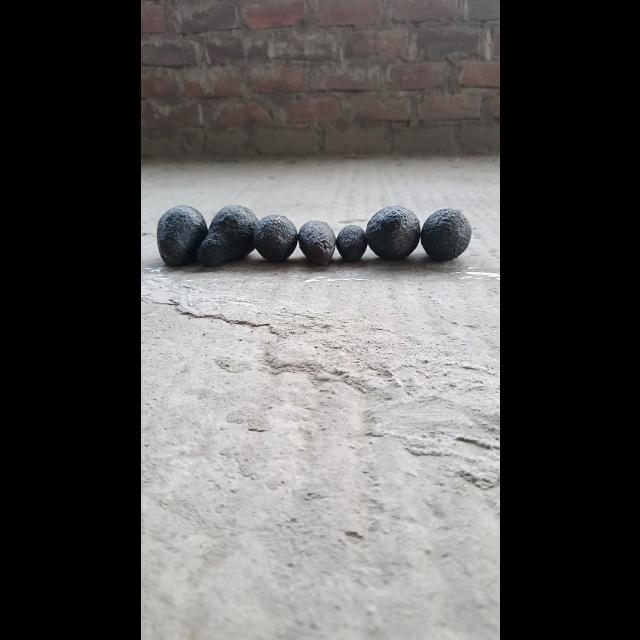Primera: (196, 205, 258, 267), (156, 204, 207, 266), (364, 204, 420, 260), (419, 207, 471, 261)
Segunda: (252, 214, 298, 262), (297, 220, 335, 264)
Tercera: (334, 223, 366, 263)
